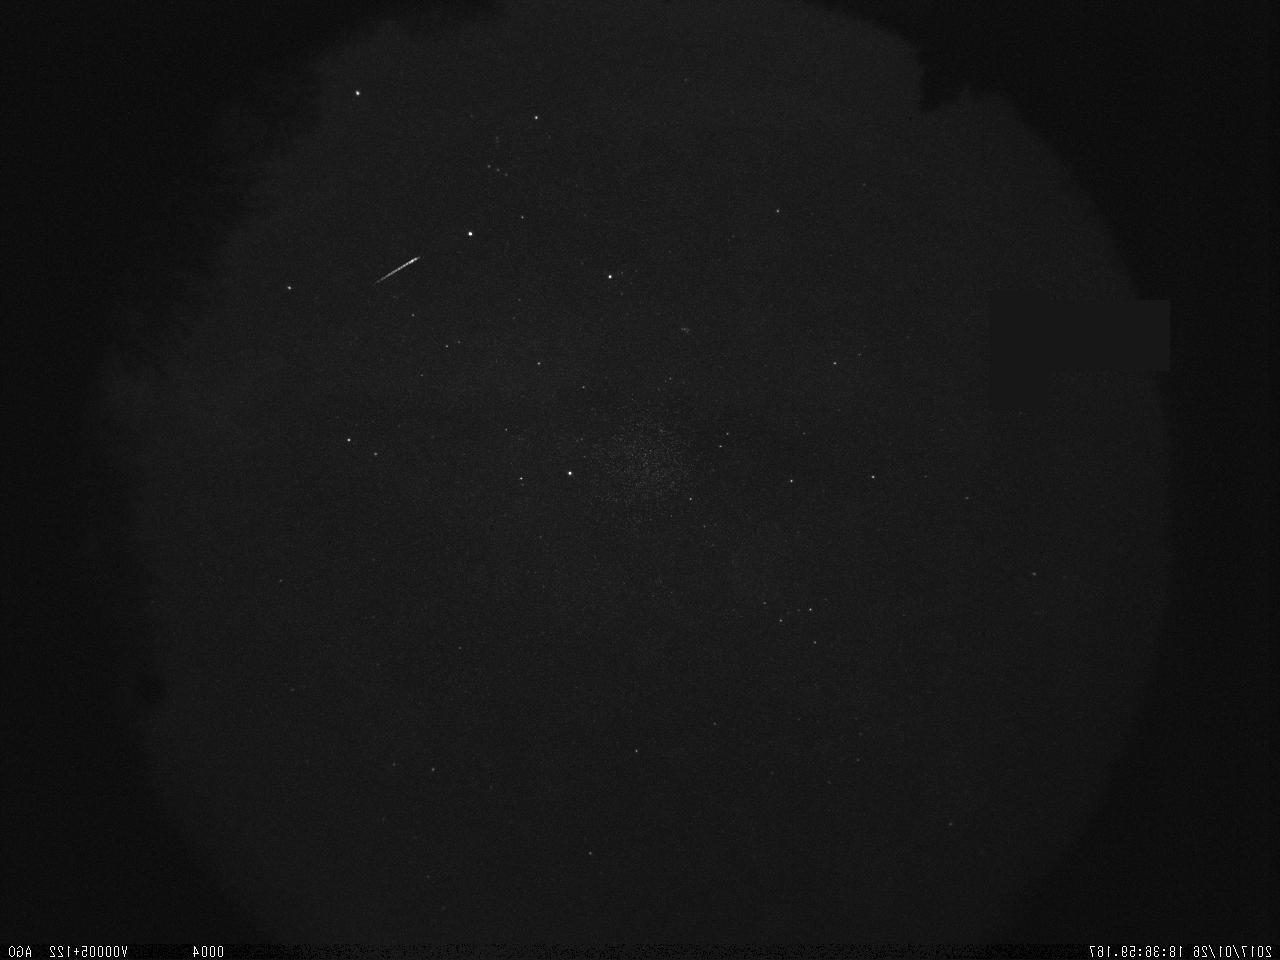meteor: (363, 246, 424, 295)
